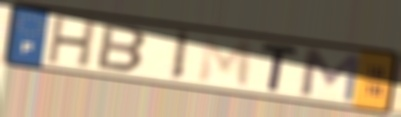B: (94, 20, 150, 75)
H: (44, 15, 101, 71)
I: (167, 29, 192, 84)
M: (299, 46, 364, 106), (196, 34, 255, 91)
T: (259, 41, 302, 94)
